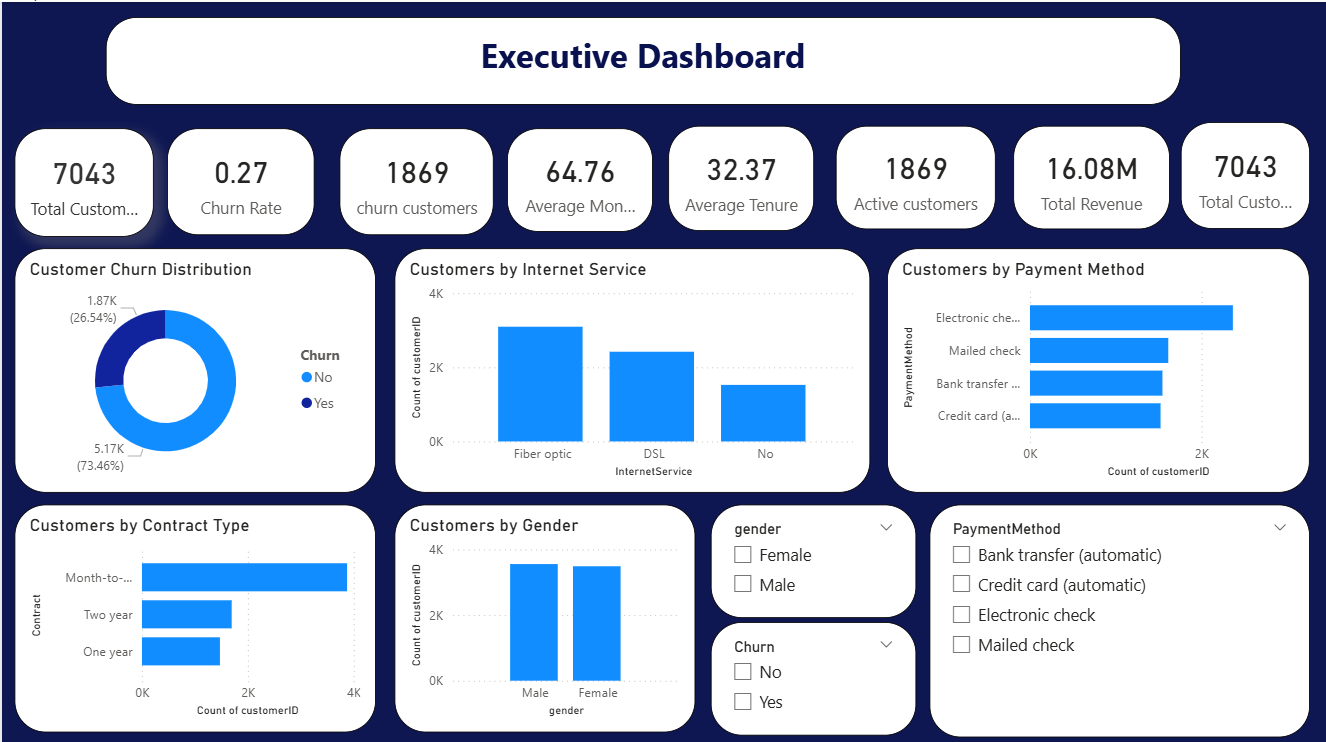

Layout of this report page (visuals, bound fields, positions):
{"tool":"powerbi","page":{"name":"Executive Dashboard","canvas":[1280,720],"ordinal":0},"visuals":[{"type":"card","fields":{"Values":["customer_churn.Total Customers"]},"box":[11.5,121.3,134.4,104.9],"z":0},{"type":"card","fields":{"Values":["customer_churn.Total Revenue"]},"box":[975.4,119.7,150.8,100],"z":1000},{"type":"card","fields":{"Values":["customer_churn.Churn Rate"]},"box":[159,121.3,142.6,103.3],"z":2000},{"type":"card","fields":{"Values":["customer_churn.Total Customers"]},"box":[1137.7,116.4,124.6,103.3],"z":3000},{"type":"card","fields":{"Values":["customer_churn.Average Monthly charges"]},"box":[486.9,121.3,141,100],"z":4000},{"type":"card","fields":{"Values":["customer_churn.Average Tenure"]},"box":[642.6,119.7,141,101.6],"z":5000},{"type":"card","fields":{"Values":["customer_churn.churn customers"]},"box":[326.2,121.3,149.2,103.3],"z":6000},{"type":"card","fields":{"Values":["customer_churn.Active customers"]},"box":[804.9,119.7,154.1,100],"z":7000},{"type":"donutChart","title":"Customer Churn Distribution","fields":{"Category":["customer_churn.Churn"],"Y":["CountNonNull(customer_churn.customerID)"]},"box":[11.5,237.7,349.2,236.1],"z":8000},{"type":"clusteredBarChart","title":"Customers by Contract Type","fields":{"Y":["CountNonNull(customer_churn.customerID)"],"Category":["customer_churn.Contract"]},"box":[11.5,485.2,349.2,219.7],"z":9000},{"type":"clusteredColumnChart","title":"Customers by Internet Service","fields":{"Category":["customer_churn.InternetService"],"Y":["CountNonNull(customer_churn.customerID)"]},"box":[378.7,237.7,459,236.1],"z":10000},{"type":"columnChart","title":"Customers by Gender","fields":{"Category":["customer_churn.gender"],"Y":["CountNonNull(customer_churn.customerID)"]},"box":[378.7,485.2,290.2,219.7],"z":11000},{"type":"barChart","title":"Customers by Payment Method","fields":{"Y":["CountNonNull(customer_churn.customerID)"],"Category":["customer_churn.PaymentMethod"]},"box":[854.1,237.7,408.2,236.1],"z":12000},{"type":"slicer","fields":{"Values":["customer_churn.gender"]},"box":[683.6,485.2,198.4,109.8],"z":13000},{"type":"slicer","fields":{"Values":["customer_churn.Churn"]},"box":[683.6,598.4,198.4,109.8],"z":14000},{"type":"slicer","fields":{"Values":["customer_churn.PaymentMethod"]},"box":[895.1,485.2,367.2,224.6],"z":15000},{"type":"textbox","box":[100.1,14.5,1037.5,84.5],"z":16000}]}

Visuals, with their boxes in screenshot pixels (x1, y1, x2, y2), scaled from the page's 1280x720 canvas onto the 1326x742 screenshot:
card - customer_churn.Total Customers: x1=12, y1=125, x2=151, y2=233
card - customer_churn.Total Revenue: x1=1010, y1=123, x2=1167, y2=226
card - customer_churn.Churn Rate: x1=165, y1=125, x2=312, y2=231
card - customer_churn.Total Customers: x1=1179, y1=120, x2=1308, y2=226
card - customer_churn.Average Monthly charges: x1=504, y1=125, x2=650, y2=228
card - customer_churn.Average Tenure: x1=666, y1=123, x2=812, y2=228
card - customer_churn.churn customers: x1=338, y1=125, x2=492, y2=231
card - customer_churn.Active customers: x1=834, y1=123, x2=993, y2=226
"Customer Churn Distribution" donutChart: x1=12, y1=245, x2=374, y2=488
"Customers by Contract Type" clusteredBarChart: x1=12, y1=500, x2=374, y2=726
"Customers by Internet Service" clusteredColumnChart: x1=392, y1=245, x2=868, y2=488
"Customers by Gender" columnChart: x1=392, y1=500, x2=693, y2=726
"Customers by Payment Method" barChart: x1=885, y1=245, x2=1308, y2=488
slicer - customer_churn.gender: x1=708, y1=500, x2=914, y2=613
slicer - customer_churn.Churn: x1=708, y1=617, x2=914, y2=730
slicer - customer_churn.PaymentMethod: x1=927, y1=500, x2=1308, y2=731
textbox: x1=104, y1=15, x2=1178, y2=102
